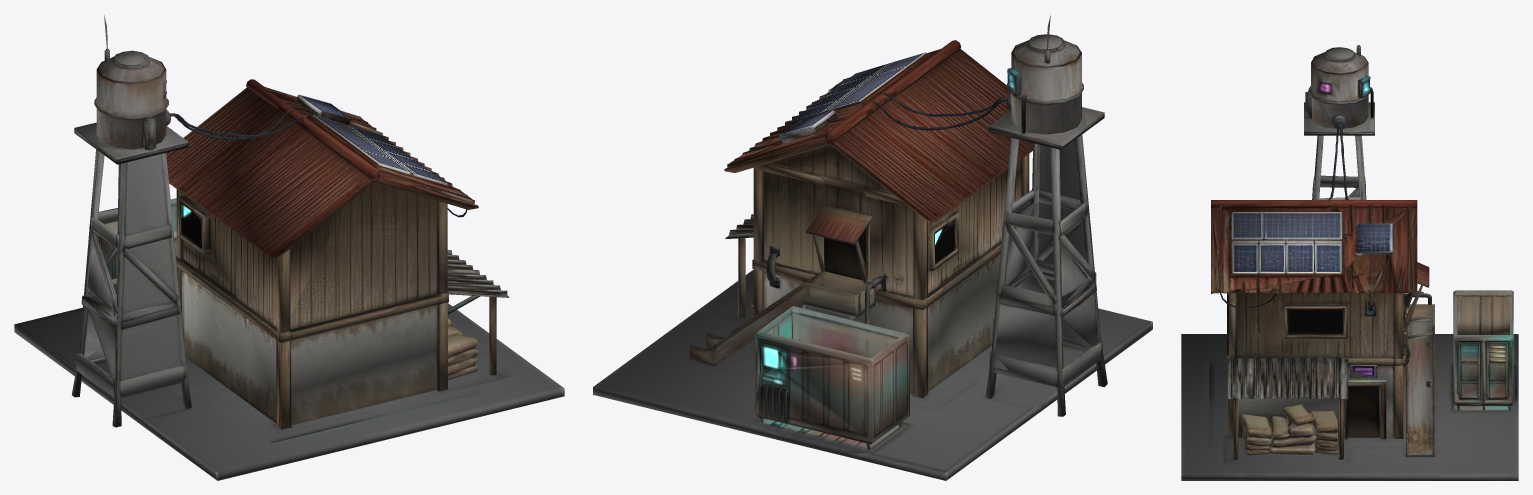
The model's file is rice_mill.glb.
3 renders of one model, left to right at view 1: azimuth 30°, elevation 25°; view 2: azimuth 150°, elevation 25°; view 3: azimuth 270°, elevation 25°, orthographic. The views are drawn at different scales.
Parts seen in each view (by area): view 1: Body; view 2: Body, Glow; view 3: Body.
Part boxes in pixels (box(x1,y1,x2,y2)): Body: box(14, 15, 564, 480); Body: box(593, 15, 1152, 480); Glow: box(763, 53, 1015, 375); Body: box(1181, 45, 1518, 480).
Bounding box in the file's own units: 14 × 13.89 × 13.12.
Materials: 2 (2 with a texture image).
